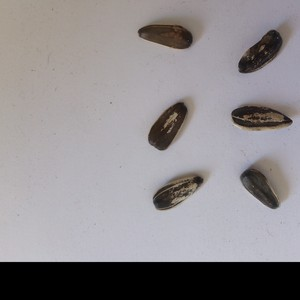girasol: (235, 25, 282, 76), (146, 99, 189, 153), (238, 165, 281, 213), (153, 175, 206, 212), (228, 104, 295, 133), (135, 22, 194, 52)
